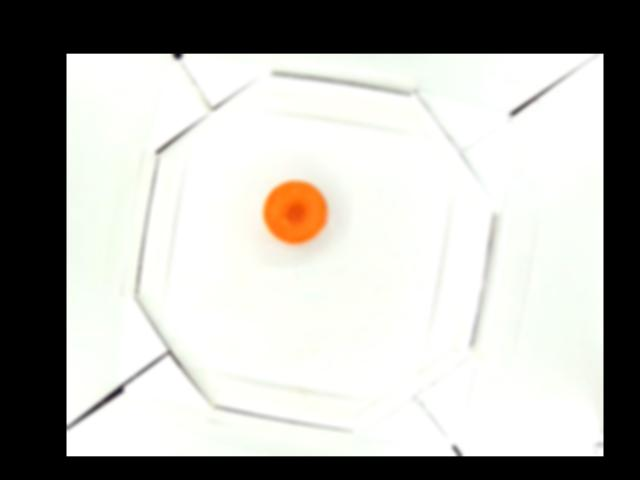Carrot: (262, 180, 327, 244)
